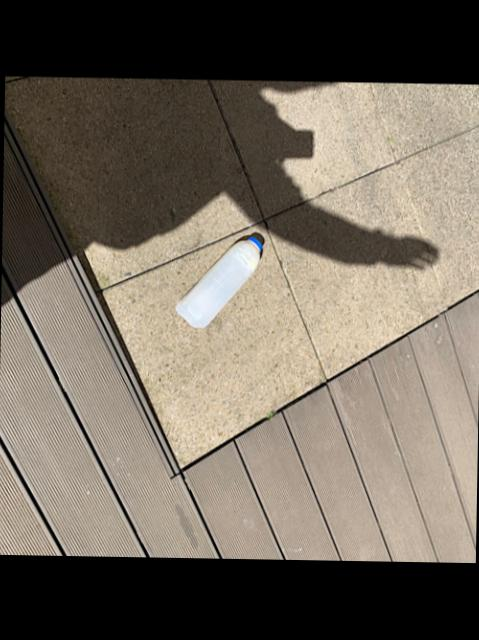plastic: (176, 235, 264, 329)
